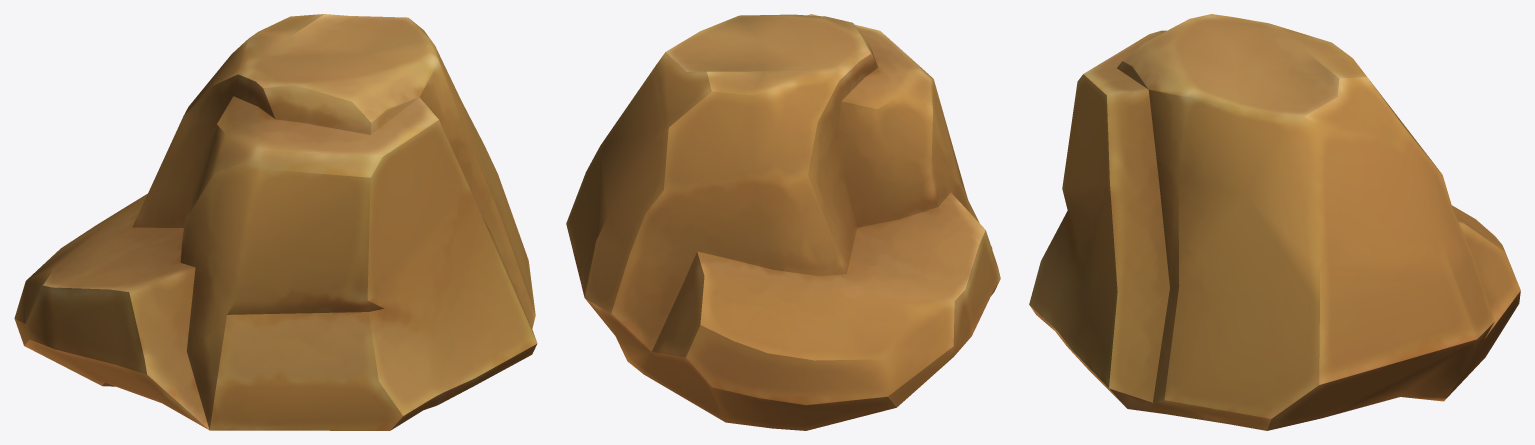
Rendered from rock_desert_1.gltf.
The picture shows the model from 3 angles, left to right: view 1: azimuth 30°, elevation 25°; view 2: azimuth 150°, elevation 25°; view 3: azimuth 270°, elevation 25°; orthographic projection. The views are drawn at different scales.
Visible parts, largest first — view 1: rock_desert_1; view 2: rock_desert_1; view 3: rock_desert_1.
Boxes of the visible parts, bbox=[...] form: rock_desert_1: bbox=[14, 14, 537, 430]; rock_desert_1: bbox=[566, 14, 1000, 430]; rock_desert_1: bbox=[1029, 14, 1520, 430].
Size of the model in its own units: 3.23 by 2.26 by 2.99.
Materials: 1 (1 with a texture image).
